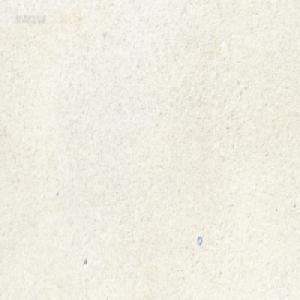Washer: (196, 235, 201, 245)
